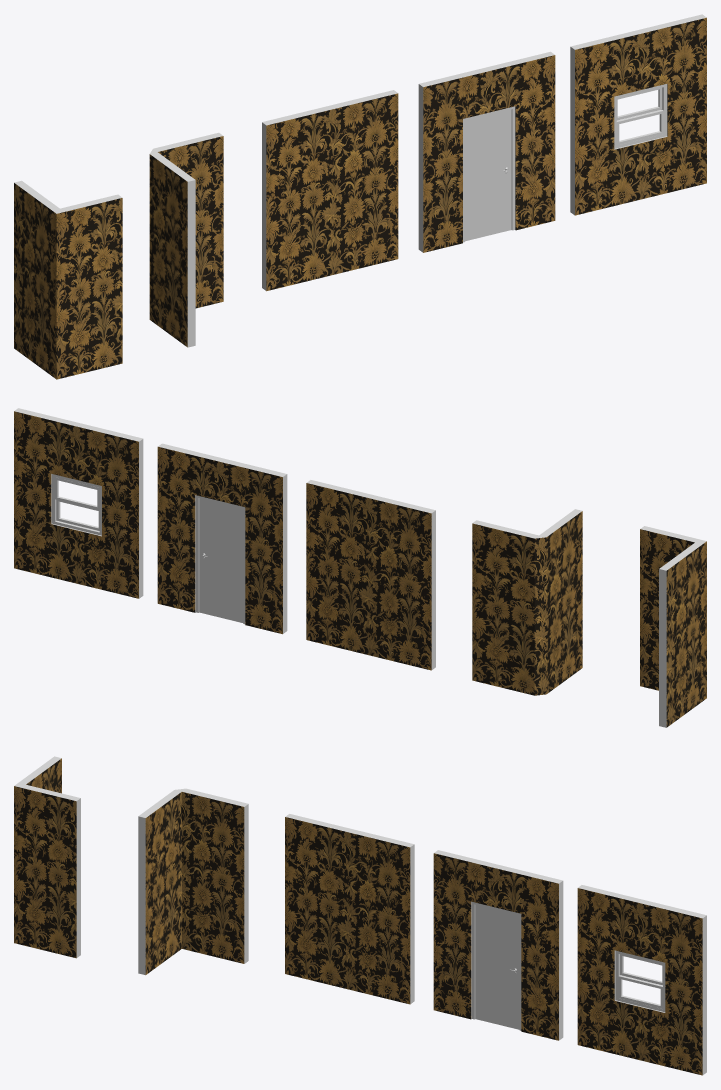
File: Wall_01.fbx
3 renders of one model, top to bottom at view 1: azimuth 30°, elevation 25°; view 2: azimuth 150°, elevation 25°; view 3: azimuth 330°, elevation 25°, orthographic. The views are drawn at different scales.
Visible parts, largest first — view 1: Plane, Plane.002, Plane.010, Plane.001, Plane.008, Plane.007, Plane.006, Plane.003, Plane.005; view 2: Plane, Plane.002, Plane.008, Plane.001, Plane.010, Plane.007, Plane.006, Plane.003; view 3: Plane, Plane.002, Plane.008, Plane.001, Plane.010, Plane.007, Plane.006, Plane.003, Plane.005.
Boxes of the visible parts, bbox=[...] form: Plane: bbox=[262, 90, 398, 291]; Plane.002: bbox=[570, 14, 706, 215]; Plane.010: bbox=[14, 180, 122, 379]; Plane.001: bbox=[418, 51, 555, 252]; Plane.008: bbox=[149, 132, 223, 347]; Plane.007: bbox=[465, 109, 511, 241]; Plane.006: bbox=[463, 106, 514, 242]; Plane.003: bbox=[614, 84, 666, 148]; Plane.005: bbox=[616, 110, 663, 145]; Plane: bbox=[306, 480, 435, 670]; Plane.002: bbox=[14, 408, 143, 598]; Plane.008: bbox=[472, 509, 582, 695]; Plane.001: bbox=[157, 443, 287, 634]; Plane.010: bbox=[640, 526, 706, 727]; Plane.007: bbox=[199, 498, 243, 622]; Plane.006: bbox=[196, 495, 245, 624]; Plane.003: bbox=[52, 474, 101, 535]; Plane: bbox=[285, 814, 414, 1004]; Plane.002: bbox=[577, 885, 706, 1075]; Plane.008: bbox=[138, 788, 248, 975]; Plane.001: bbox=[433, 850, 563, 1040]; Plane.010: bbox=[14, 756, 80, 958]; Plane.007: bbox=[475, 904, 519, 1029]; Plane.006: bbox=[472, 902, 521, 1030]; Plane.003: bbox=[615, 950, 665, 1012]; Plane.005: bbox=[618, 975, 662, 1008].
Size of the model in its own units: 5216 by 1203 by 560.
